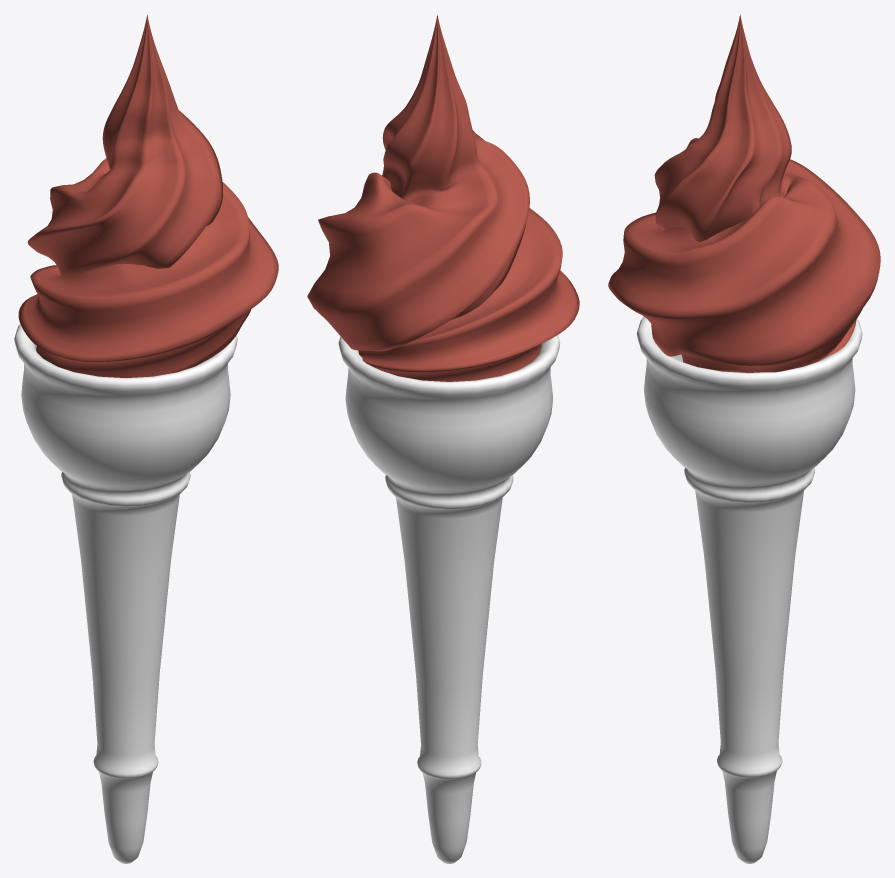
Rendered from ice-cream.fbx.
3 renders of one model, left to right at view 1: azimuth 30°, elevation 25°; view 2: azimuth 150°, elevation 25°; view 3: azimuth 270°, elevation 25°, orthographic.
Visible parts, largest first — view 1: Icecream, Corneto; view 2: Icecream, Corneto; view 3: Icecream, Corneto.
Boxes of the visible parts, x1,y1,x2,y2 form: Icecream: (18,15,278,377); Corneto: (14,324,237,863); Icecream: (307,14,579,381); Corneto: (338,335,560,863); Icecream: (608,14,880,372); Corneto: (636,317,862,863).
Size of the model in its own units: 11.92 by 43.07 by 12.42.
